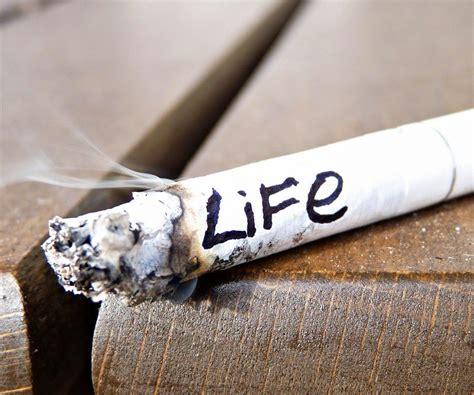cigarette: (45, 105, 473, 303)
